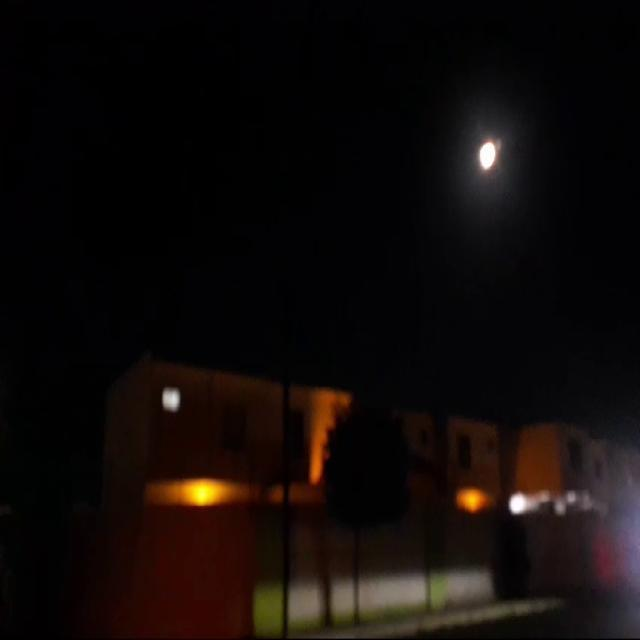moon: (480, 133, 500, 167)
